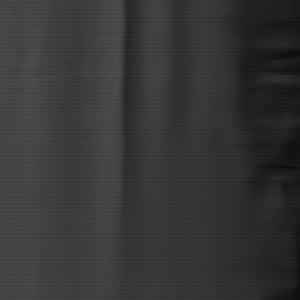Wrinkle: (224, 1, 300, 300), (109, 1, 147, 300), (160, 1, 206, 174)
